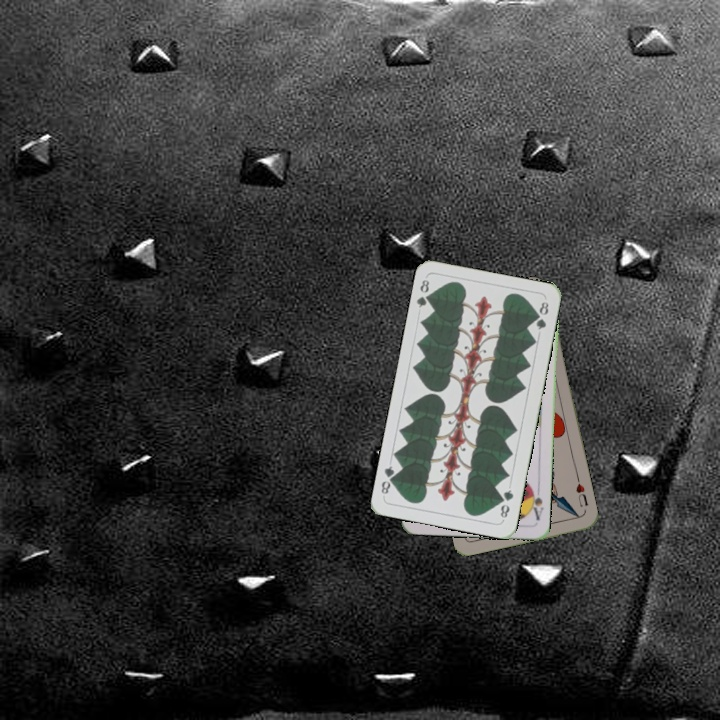G8: (412, 275, 434, 310), (496, 486, 516, 522)
HU: (572, 474, 591, 510)
SA: (526, 483, 546, 523)
